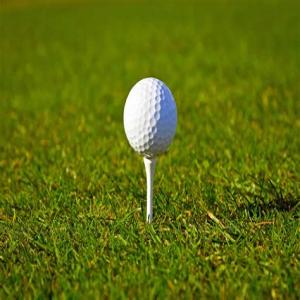Golf: (124, 74, 177, 156)
